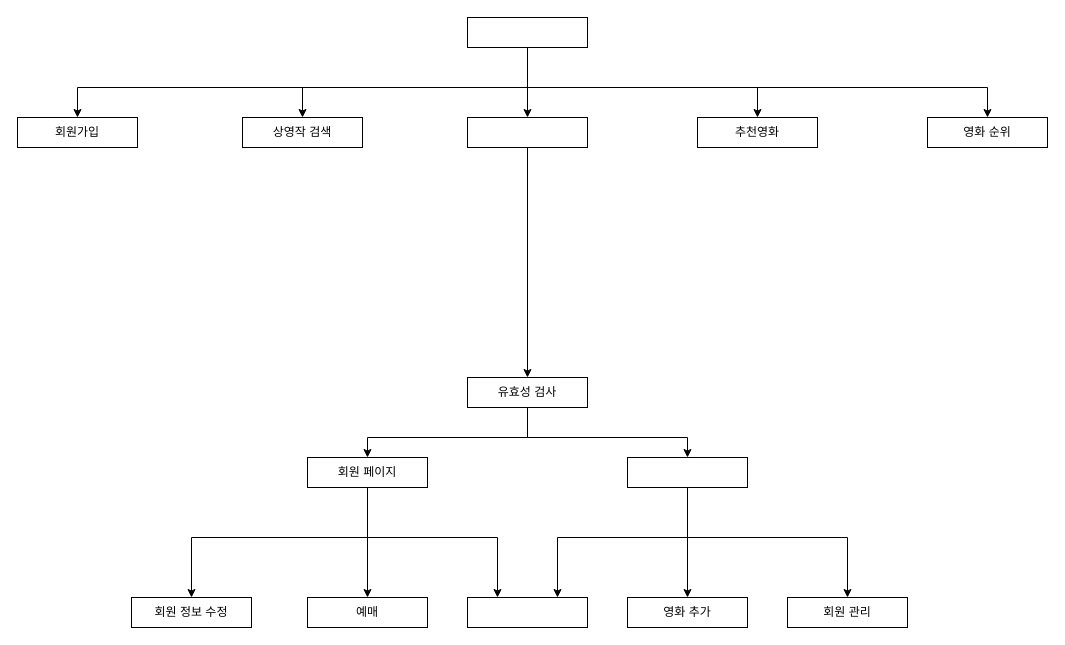
This 1065x645 diagram has some shape labels left out. The shapes that lost their labels are listed below. From the top down, each one's centre as x and y in pixels, then its label:
At (x=527, y=32): "메인 페이지".
At (x=527, y=132): "로그인".
At (x=687, y=472): "관리자 페이지".
At (x=527, y=612): "예약 현황 확인".
